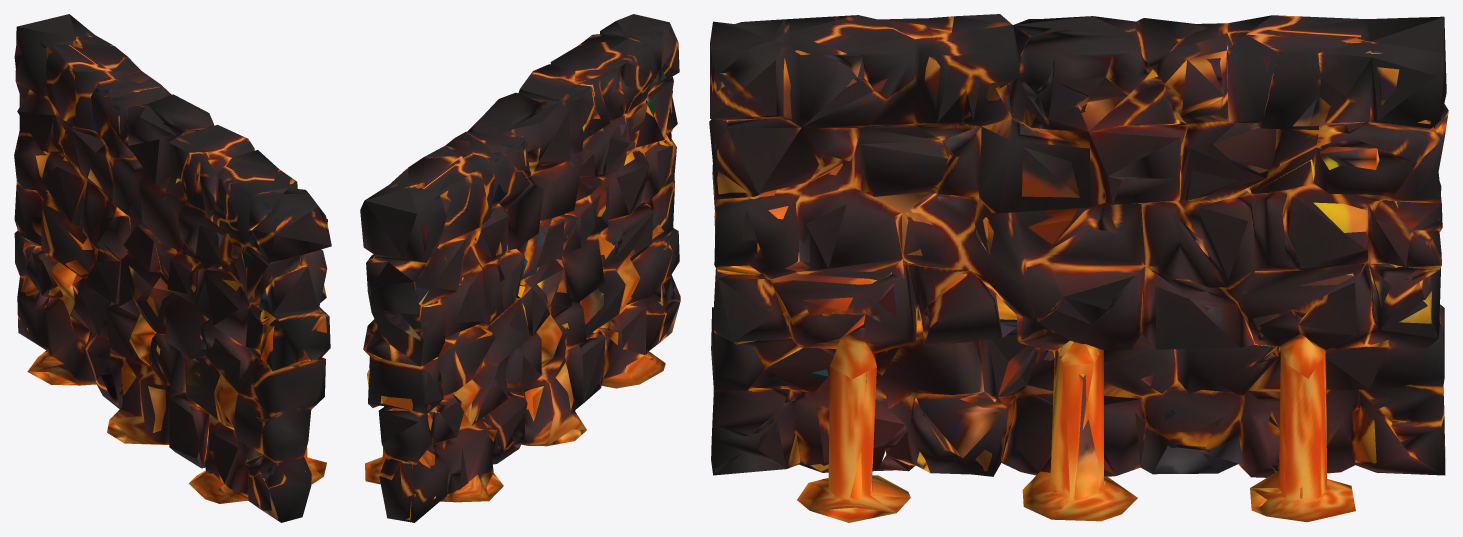
Rendered from Wall.obj.
3 renders of one model, left to right at view 1: azimuth 30°, elevation 25°; view 2: azimuth 150°, elevation 25°; view 3: azimuth 270°, elevation 25°, orthographic. The views are drawn at different scales.
Parts seen in each view (by area): view 1: tripo_node_2929ca13-f625-4fe4-bce8-077f068a3b54; view 2: tripo_node_2929ca13-f625-4fe4-bce8-077f068a3b54; view 3: tripo_node_2929ca13-f625-4fe4-bce8-077f068a3b54.
Part boxes in pixels (x1=…): tripo_node_2929ca13-f625-4fe4-bce8-077f068a3b54: x1=14, y1=14, x2=331, y2=522; tripo_node_2929ca13-f625-4fe4-bce8-077f068a3b54: x1=360, y1=14, x2=680, y2=522; tripo_node_2929ca13-f625-4fe4-bce8-077f068a3b54: x1=709, y1=14, x2=1448, y2=522.
Bounding box in the file's own units: 0.297 × 0.661 × 1.
Materials: 1 (1 with a texture image).
